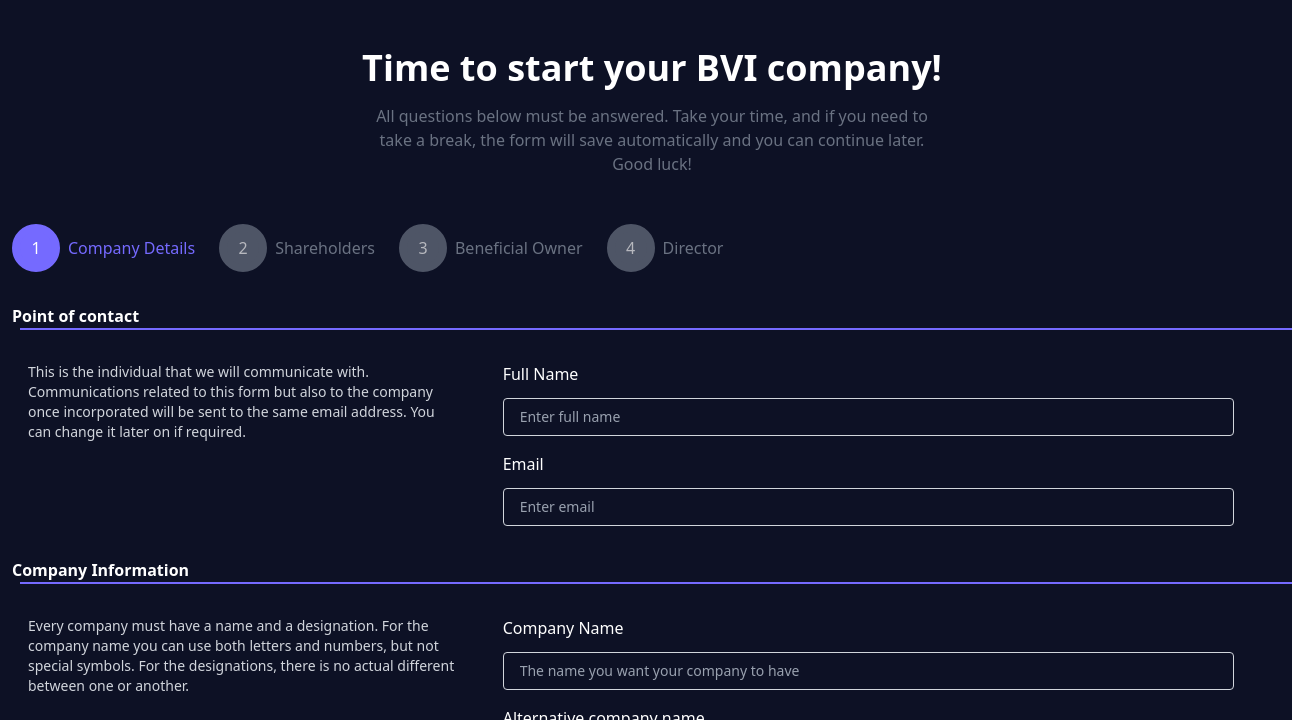
Test: Testing Home View › testing company name special keyword validation
The image size is (1292, 720).
In the field with test id "company-name": point(868, 671) x1=503 y1=652 x2=1234 y2=690, type "korporatio"
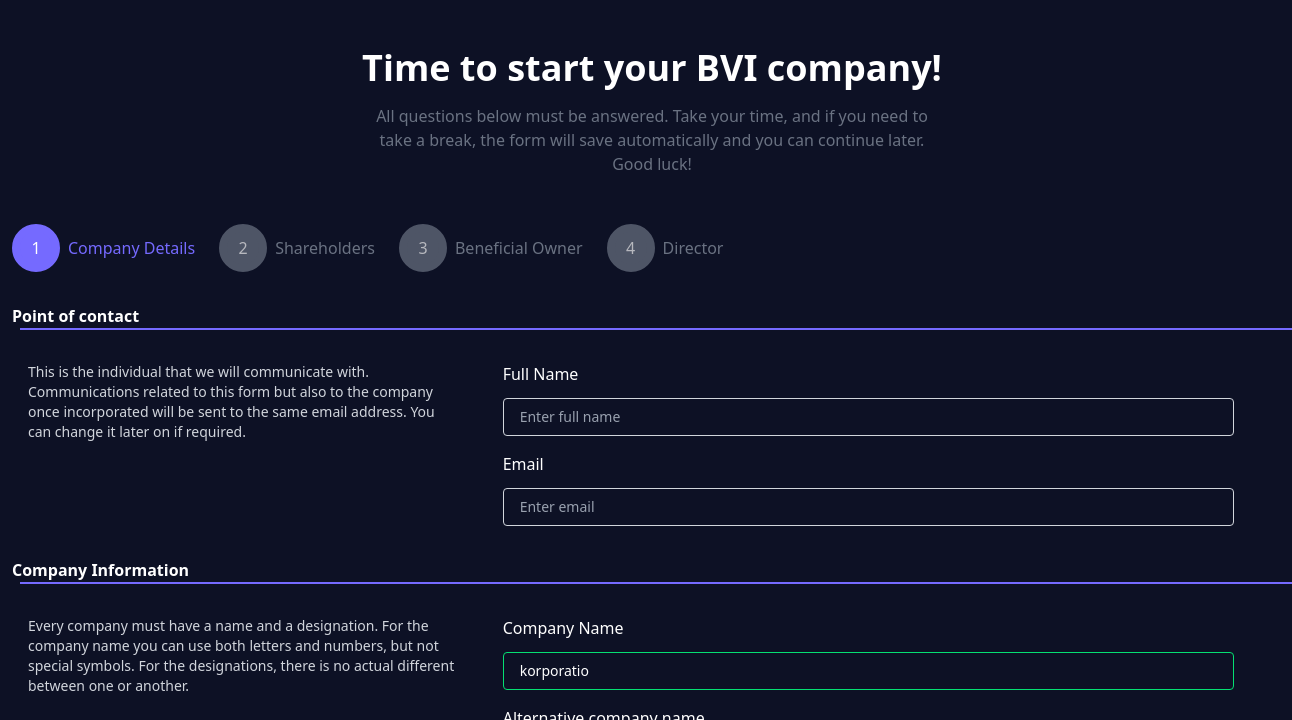
Leave the field with test id "company-name", box x1=503 y1=652 x2=1234 y2=690
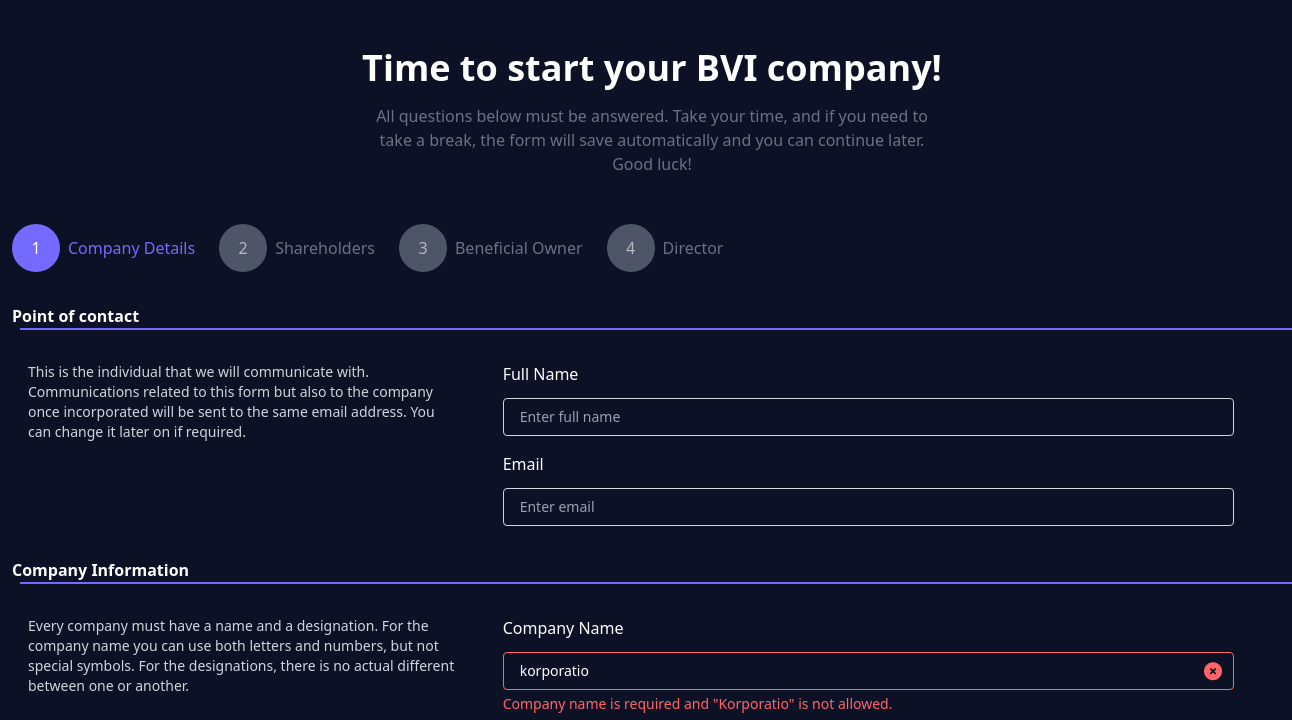
Expected: the text "Company name is required and \"Korporatio\" is not allowed." is shown, x1=503 y1=694 x2=892 y2=713
